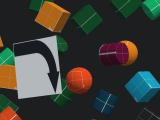Right: (13, 35, 62, 99)
